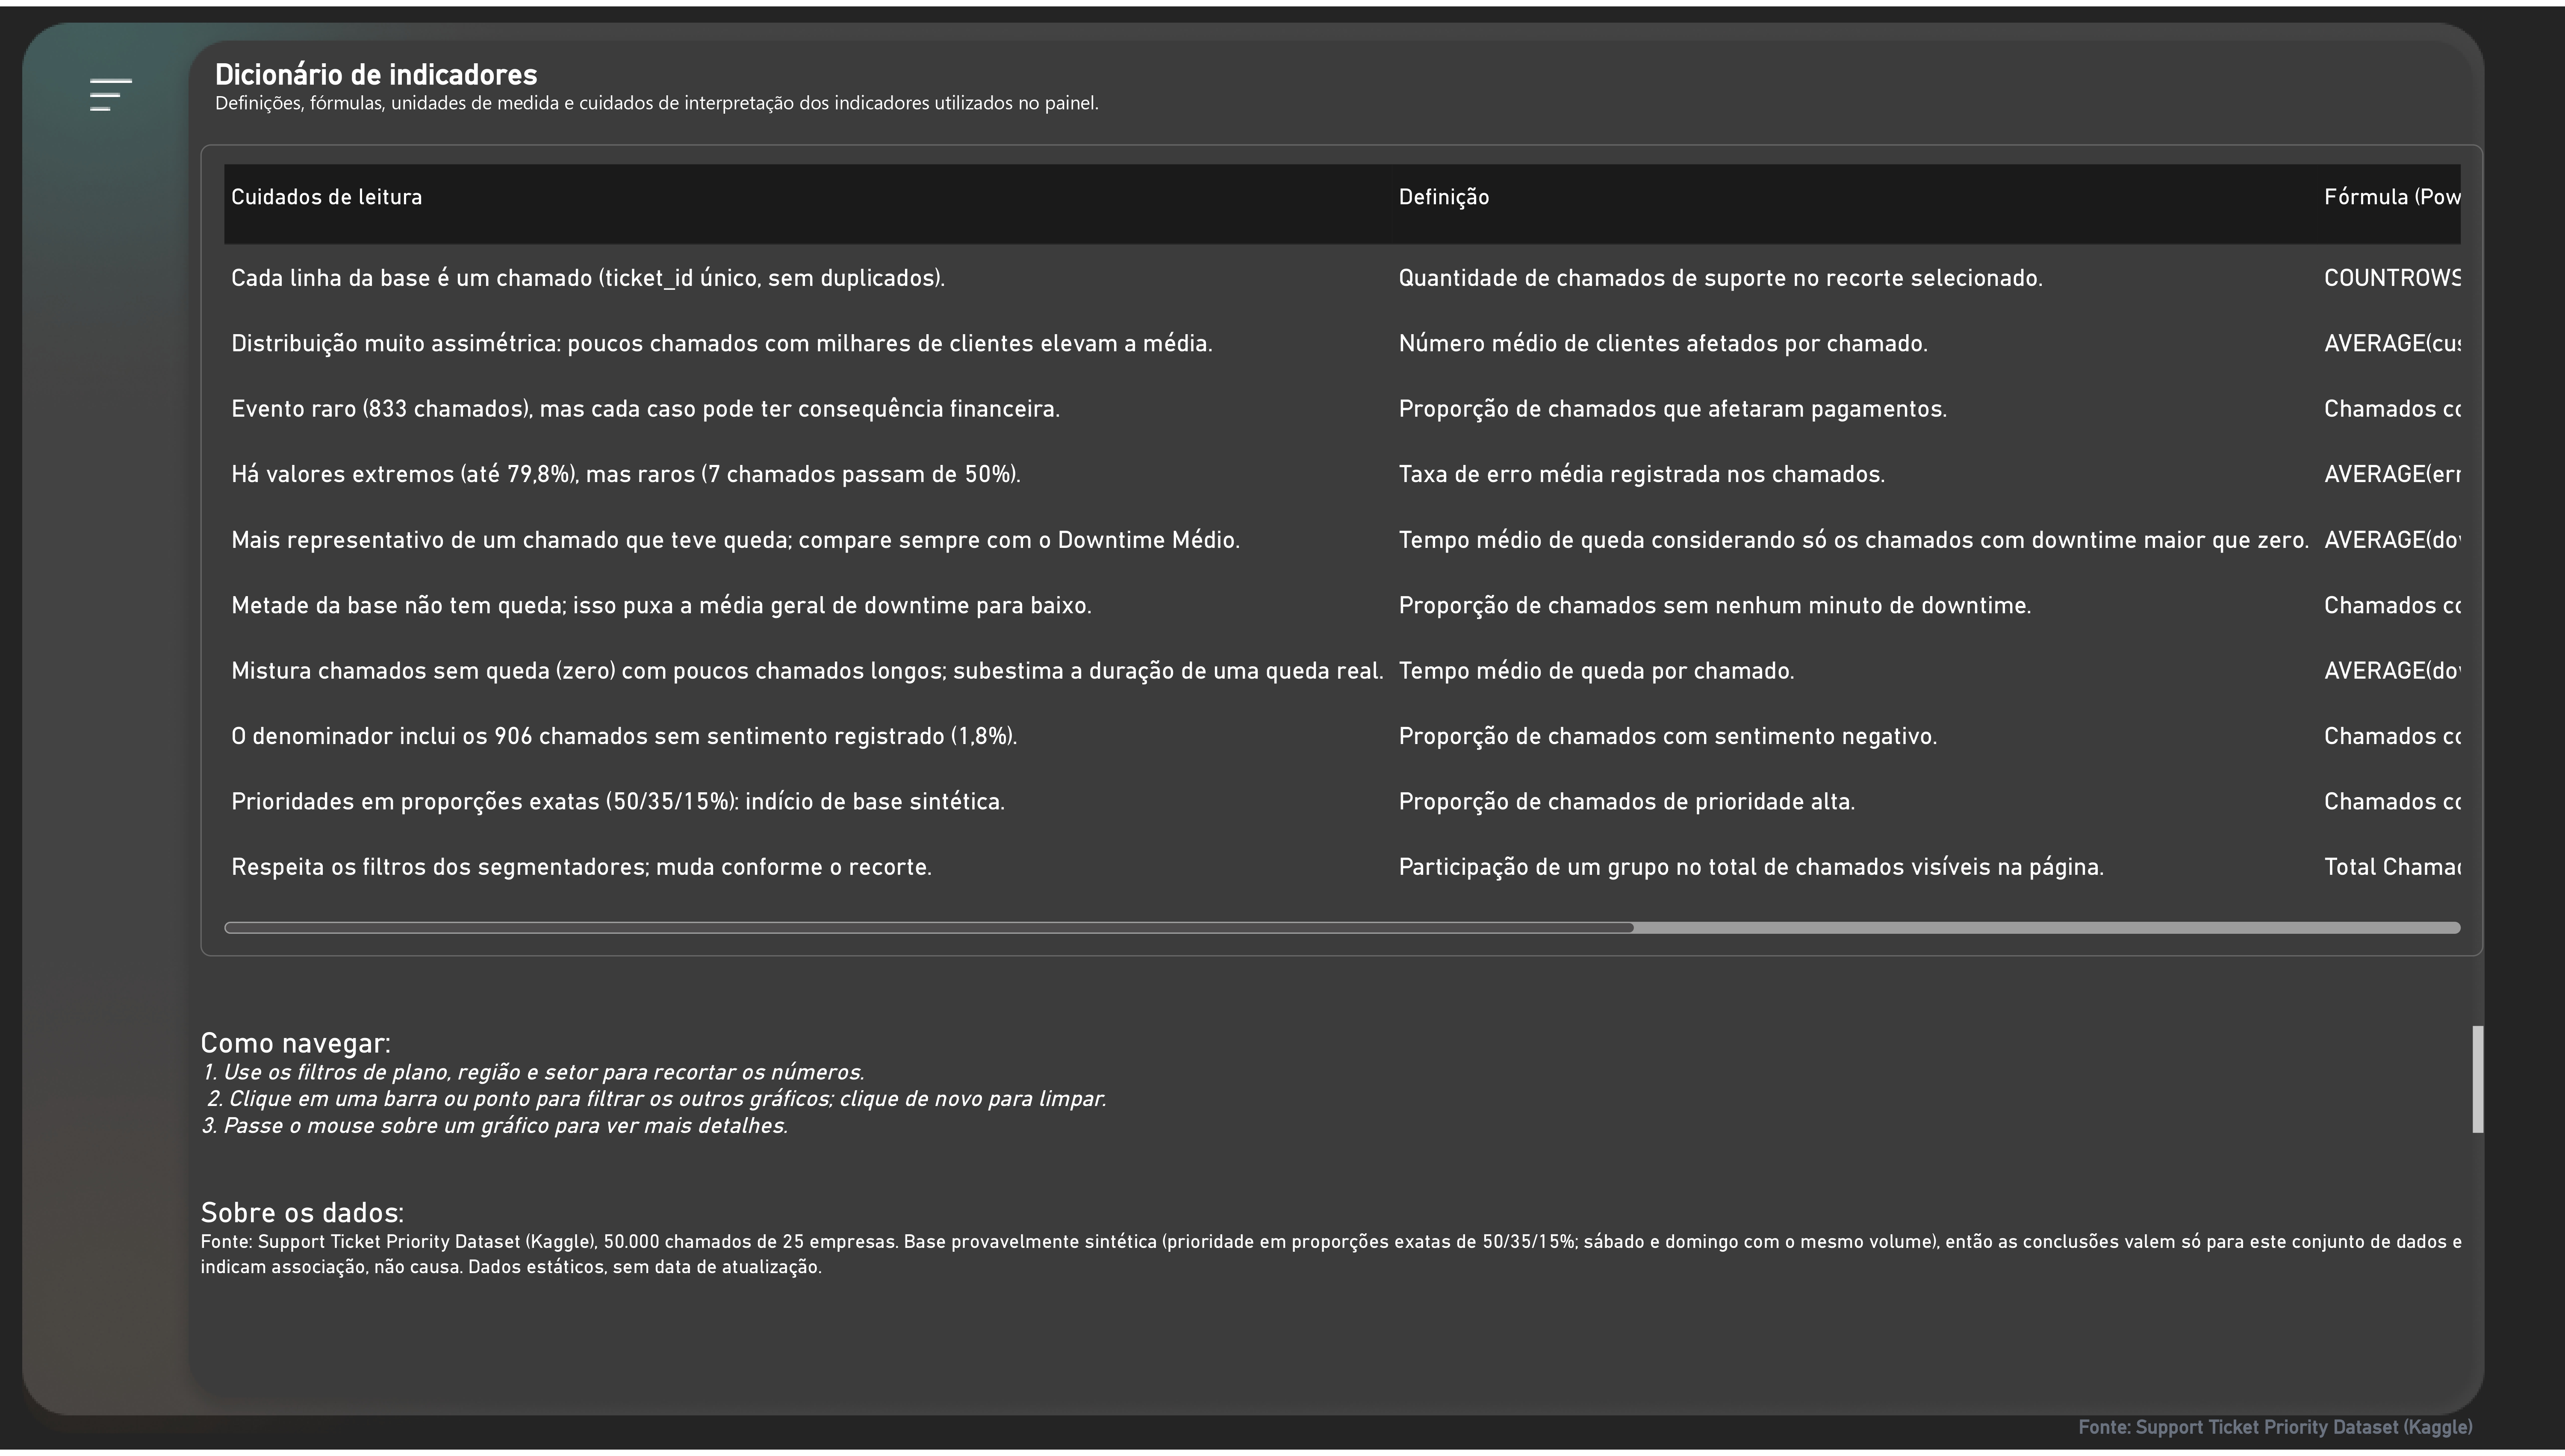

This screenshot's page, from the dashboard's own definition file:
{"tool":"powerbi","page":{"name":"Dicionário","canvas":[1920,1080],"ordinal":3},"visuals":[{"type":"textbox","box":[160.8,37.9,687.1,65.2],"z":0},{"type":"tableEx","fields":{"Values":["dicionario_indicadores.Cuidados de leitura","dicionario_indicadores.Definição","dicionario_indicadores.Fórmula (Power BI)","dicionario_indicadores.Indicador","dicionario_indicadores.Unidade","dicionario_indicadores.Valor (sem filtros)"]},"box":[150.2,103.1,1709.5,608.3],"z":1},{"type":"textbox","box":[1556,1052.7,364,27.3],"z":2},{"type":"textbox","box":[150.2,763,1709.5,98.6],"z":3},{"type":"textbox","box":[150.2,890.4,1709.5,98.6],"z":4}]}

Visuals, with their boxes in screenshot pixels (x1, y1, x2, y2), scaled from the page's 1920x1080 canvas onto the 2565x1456 screenshot:
textbox: BBox(215, 51, 1133, 139)
tableEx - dicionario_indicadores.Cuidados de leitura x dicionario_indicadores.Definição: BBox(200, 139, 2485, 959)
textbox: BBox(2079, 1419, 2565, 1456)
textbox: BBox(200, 1029, 2485, 1162)
textbox: BBox(200, 1200, 2485, 1333)
